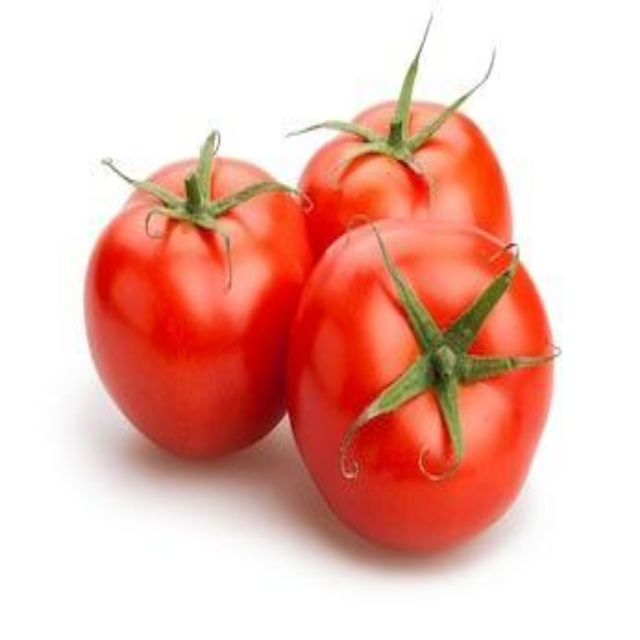tomato: (277, 222, 551, 562), (95, 157, 302, 460), (281, 95, 515, 264)
